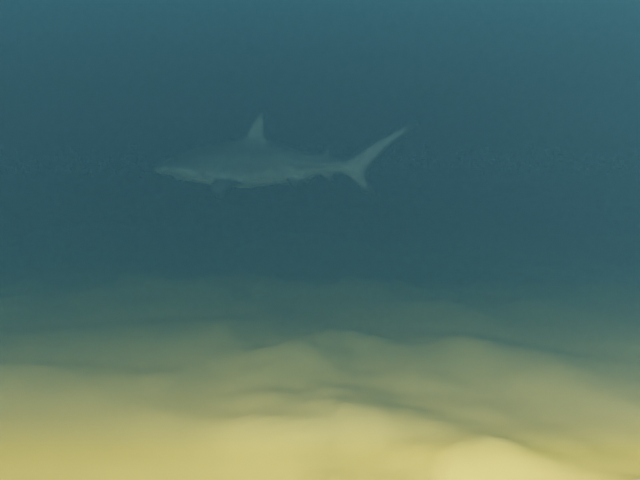Carribean Shark.001: (153, 111, 417, 198)
